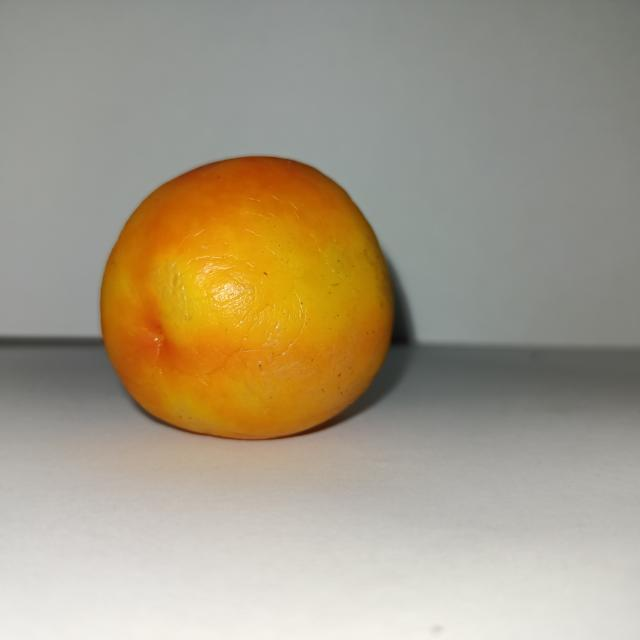Red: (98, 153, 396, 441)
